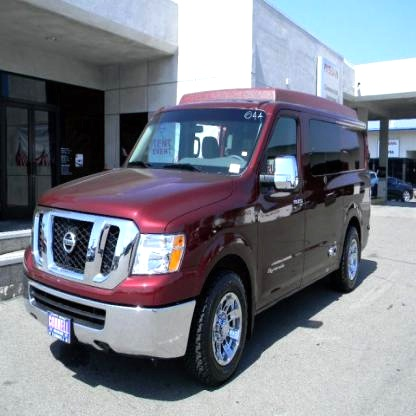Vehicle: (21, 89, 372, 392)
